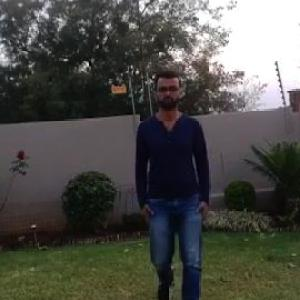follow: (144, 82, 209, 299)
